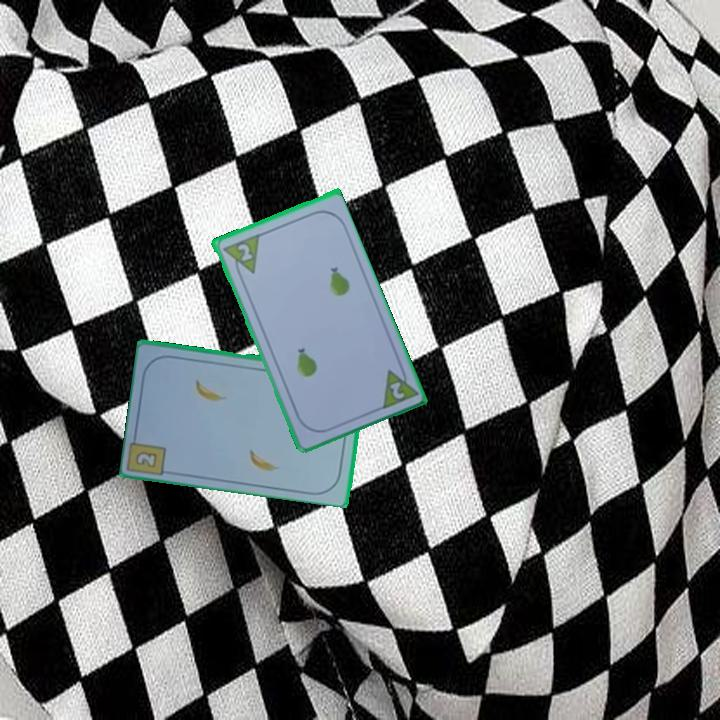2b: (132, 448, 161, 470)
2p: (218, 231, 262, 281), (386, 378, 407, 402)
